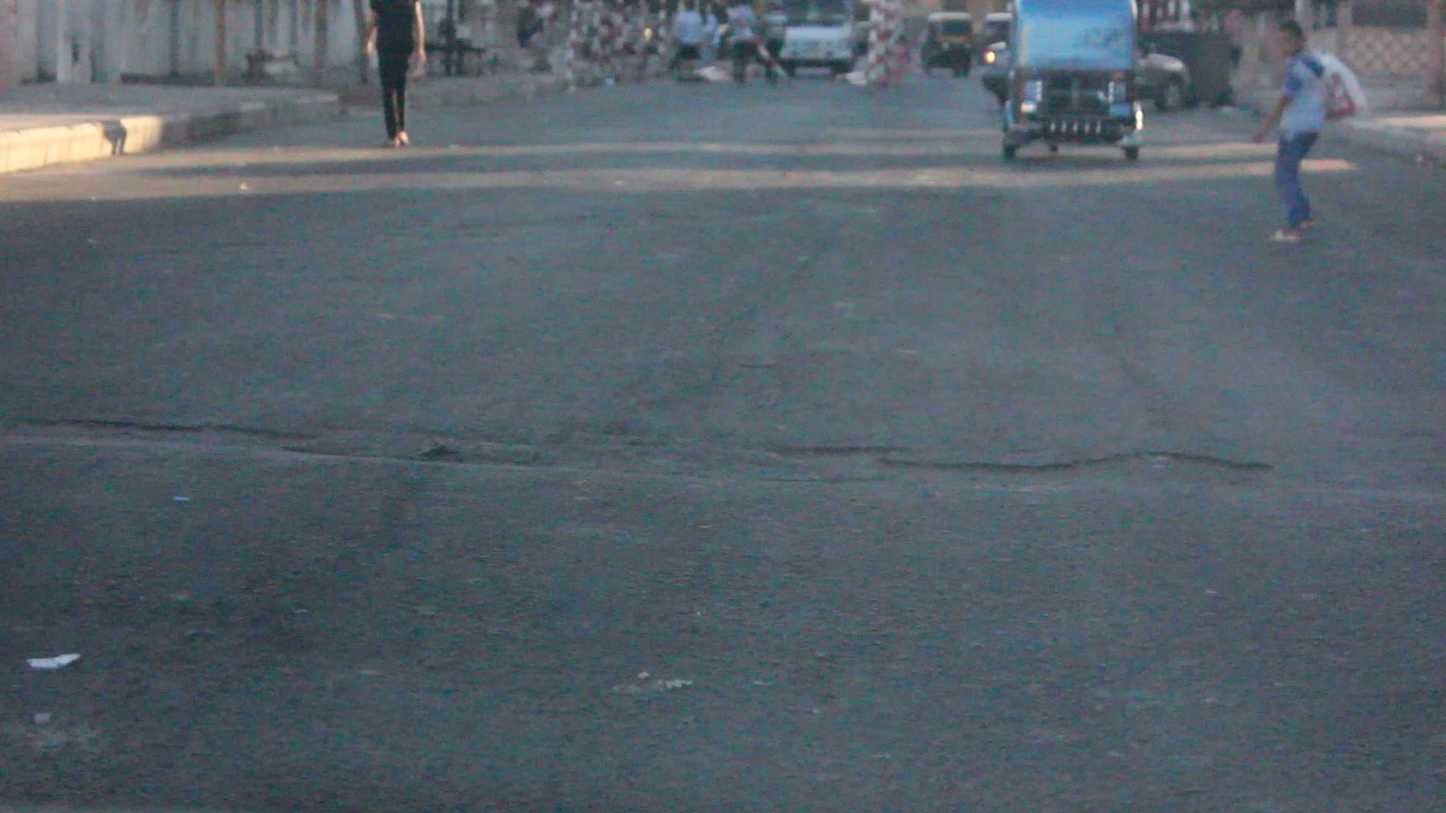Pothole: (30, 409, 1320, 510)
